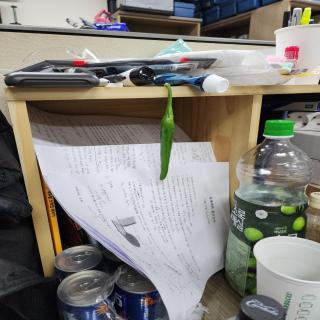Cabai Hijau: (159, 78, 182, 180)
